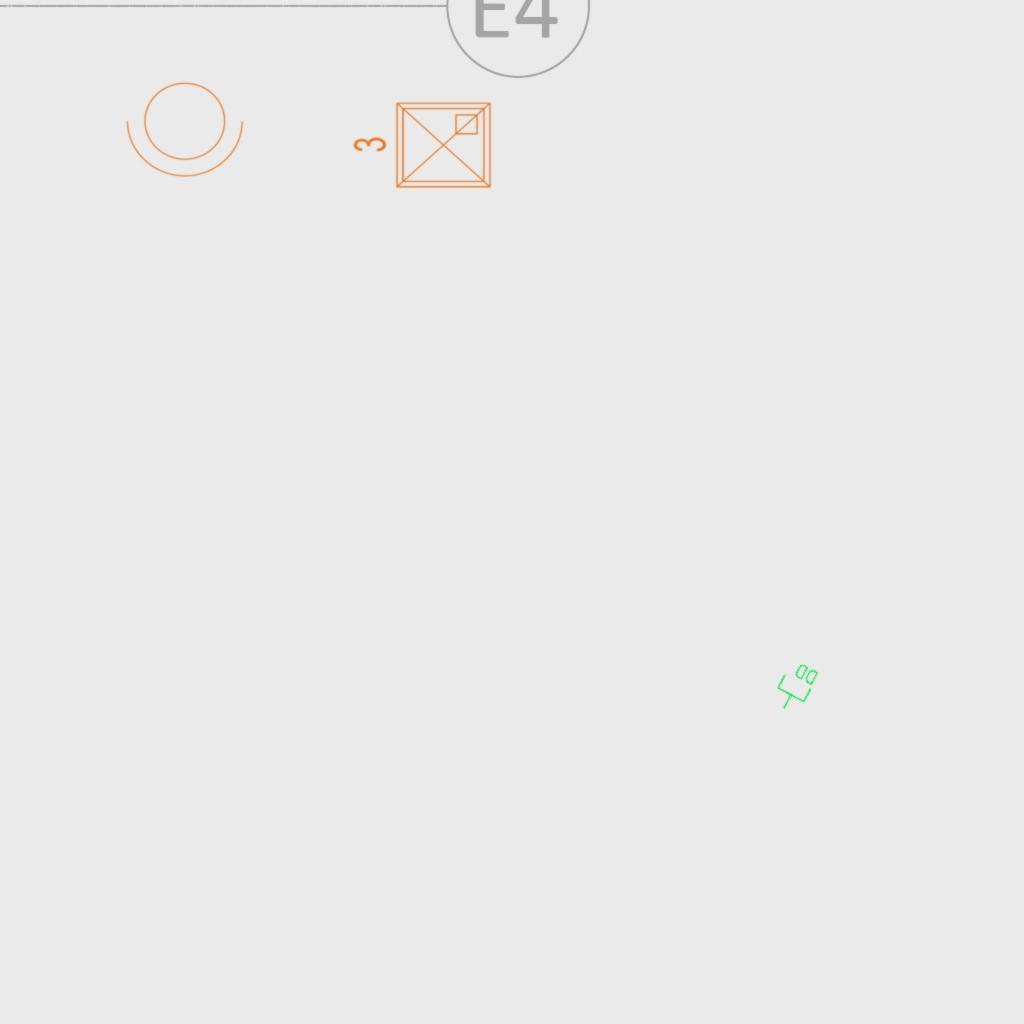Datenanschluss_zweifach: (768, 656, 823, 718)
Einbaudownlights_LED_Konferenzraeume: (348, 95, 498, 199)
Scheinwerfer_fuer_Alarmbeleuchtung: (122, 70, 254, 182)
